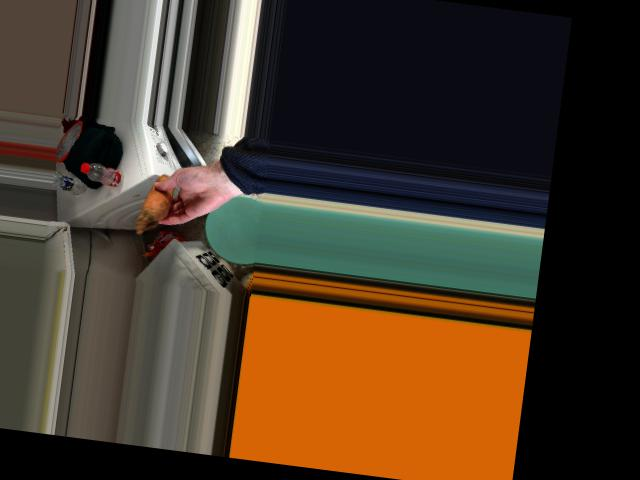sweet_potato: (141, 179, 173, 221)
